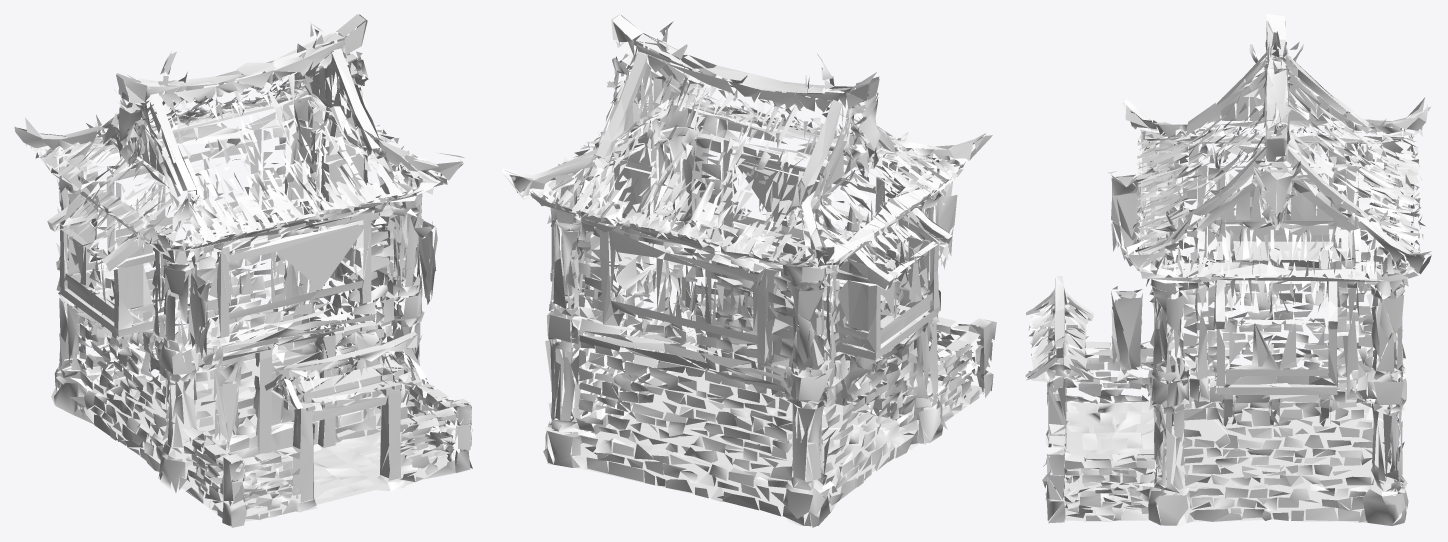
The model's file is house_stone_d_lod2.glb.
3 views of the same model, side by side, from view 1: azimuth 30°, elevation 25°; view 2: azimuth 150°, elevation 25°; view 3: azimuth 270°, elevation 25° (orthographic). The views are drawn at different scales.
Visible parts, largest first — view 1: house_stone_d; view 2: house_stone_d; view 3: house_stone_d.
Boxes of the visible parts, <box> form: house_stone_d: <box>14,14,472,527</box>; house_stone_d: <box>502,14,996,527</box>; house_stone_d: <box>1025,14,1431,527</box>.
Bounding box in the file's own units: 7.64 × 8.56 × 7.92.
Materials: 1 (1 with a texture image).
